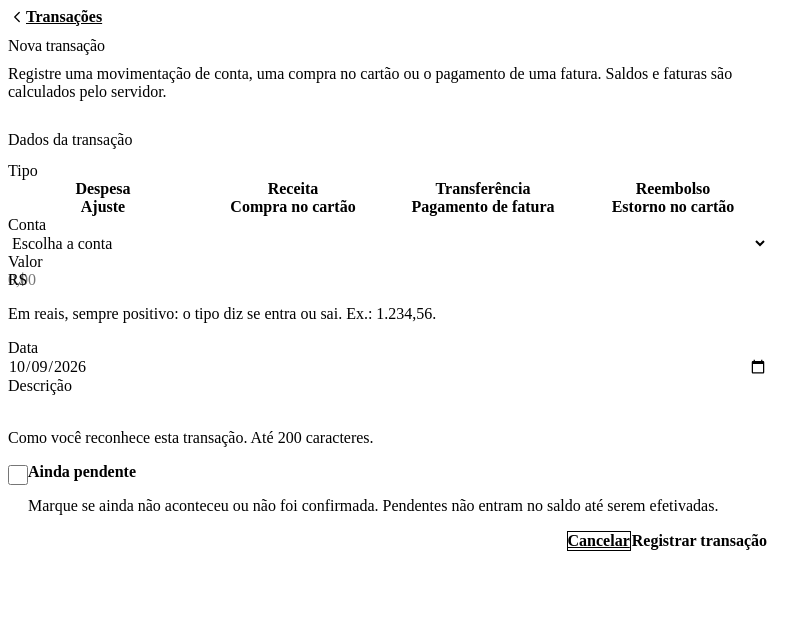
Test case: /transactions/new — transferência, reembolso e cartão (ADR-0026 §10) › sem cartão ativo oferece o cadastro e não deixa enviar
The width and height of the screenshot is (785, 637).
Click the radio button labelled "Compra no cartão" at {"x": 293, "y": 206}, box [230,198,356,215]
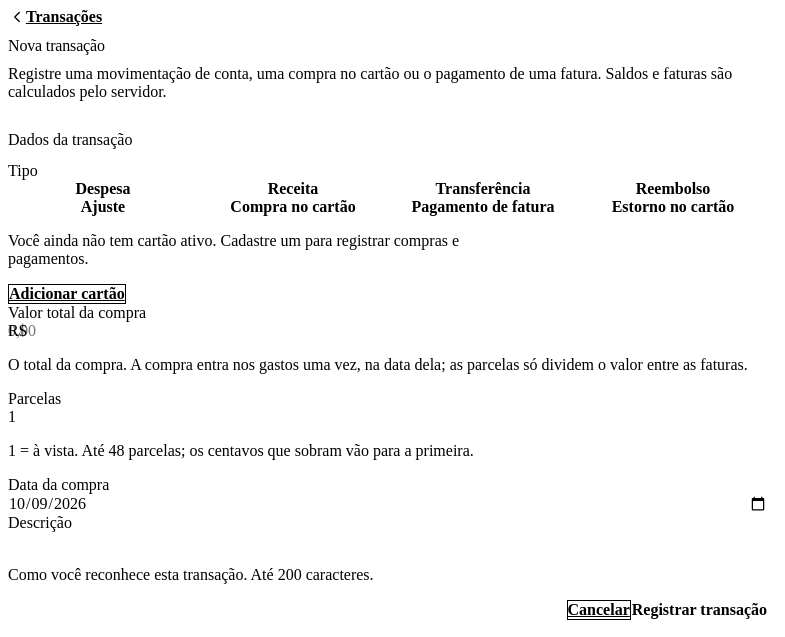
Expected: the button "Registrar transação" is disabled, [631,600,768,620]
